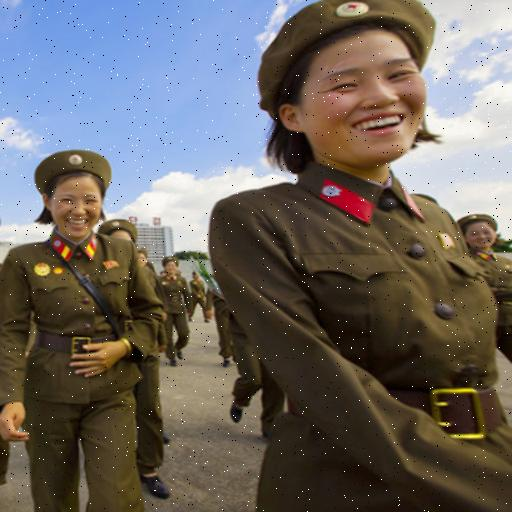north army: (209, 1, 512, 512), (2, 128, 197, 511)
